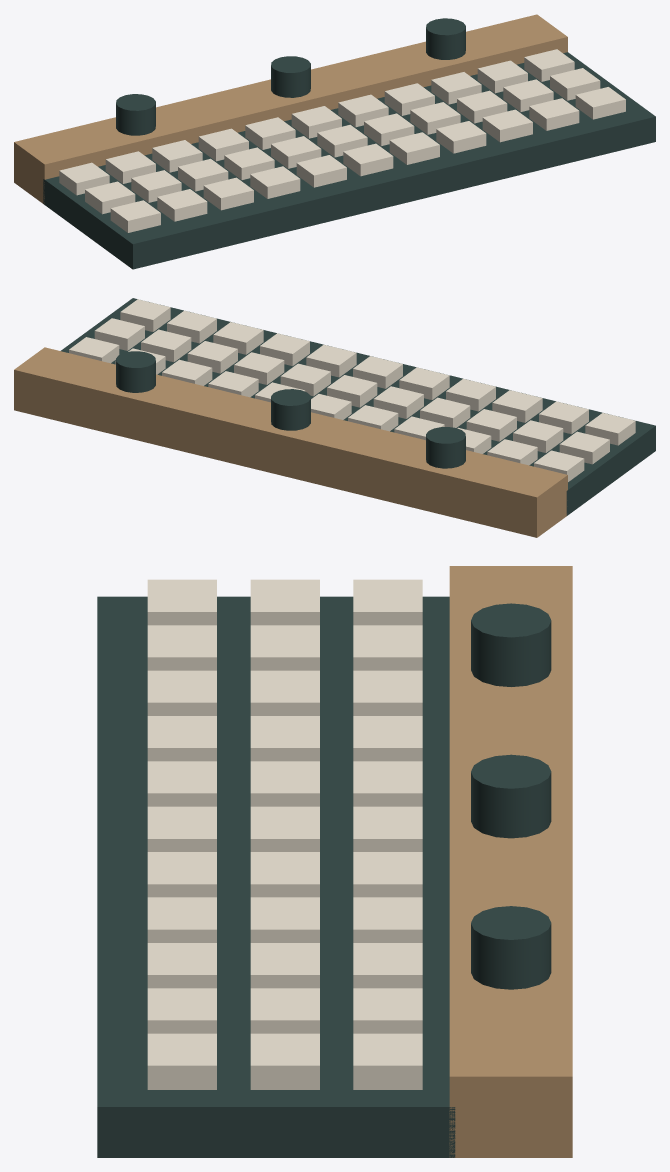
3 renders of one model, top to bottom at view 1: azimuth 30°, elevation 25°; view 2: azimuth 150°, elevation 25°; view 3: azimuth 270°, elevation 25°, orthographic. The views are drawn at different scales.
Visible parts, largest first — view 1: body0, control-deck, knob1, knob0, knob2, key0-2-4, key0-2-3, key0-2-5, key0-2-7, key0-2-10, key0-2-0, key0-2-1 (+26 smaller); view 2: control-deck, body0, knob1, knob2, knob0, key0-1-5, key0-1-7, key0-1-1, key0-1-4, key0-1-9, key0-2-4, key0-2-6 (+25 smaller); view 3: body0, control-deck, knob2, knob1, knob0, key0-0-10, key0-1-10, key0-2-10, key0-0-0, key0-1-0, key0-2-0, key0-0-1 (+26 smaller).
Part boxes in pixels (box(x1,y1,x2,y2)): body0: box(43, 52, 655, 269); control-deck: box(14, 14, 567, 203); knob1: box(271, 56, 310, 97); knob0: box(116, 94, 155, 135); knob2: box(426, 18, 465, 59); key0-2-4: box(296, 155, 346, 187); key0-2-3: box(250, 166, 300, 198); key0-2-5: box(343, 143, 393, 176); key0-2-7: box(436, 121, 486, 153); key0-2-10: box(575, 87, 625, 119); key0-2-0: box(110, 200, 160, 232); key0-2-1: box(157, 189, 207, 221); control-deck: box(14, 347, 567, 537); body0: box(61, 298, 655, 515); knob1: box(271, 389, 310, 430); knob2: box(116, 351, 155, 392); knob0: box(426, 427, 465, 468); key0-1-5: box(327, 375, 377, 407); key0-1-7: box(234, 352, 284, 384); key0-1-1: box(513, 420, 563, 452); key0-1-4: box(373, 386, 423, 418); key0-1-9: box(141, 329, 191, 362); key0-2-4: box(399, 367, 449, 399); key0-2-6: box(306, 345, 356, 377); body0: box(97, 596, 455, 1157); control-deck: box(449, 566, 572, 1157); knob2: box(471, 906, 551, 989); knob1: box(471, 754, 551, 838); knob0: box(471, 603, 551, 686); key0-0-10: box(353, 1033, 422, 1089); key0-1-10: box(250, 1033, 319, 1089); key0-2-10: box(147, 1033, 216, 1089); key0-0-0: box(353, 579, 422, 625); key0-1-0: box(250, 579, 319, 625); key0-2-0: box(147, 579, 216, 625); key0-0-1: box(353, 625, 422, 670).
Bounding box in the file's own units: 0.54 × 0.0645 × 0.2125.
